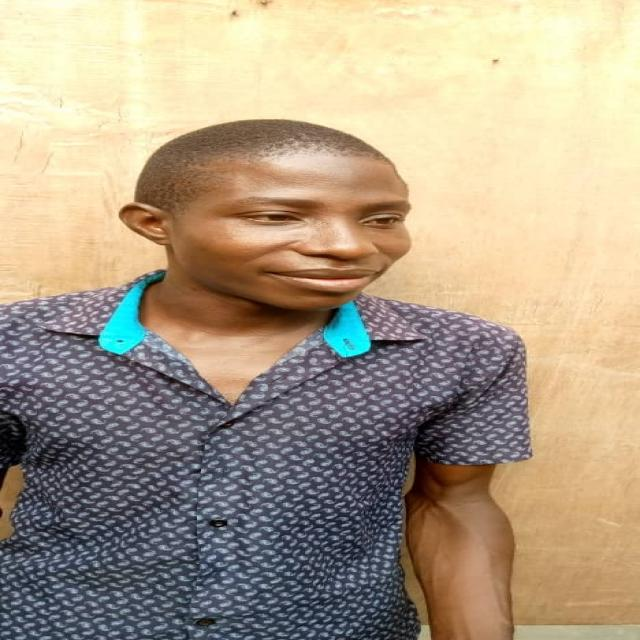happy: (130, 120, 452, 322)
